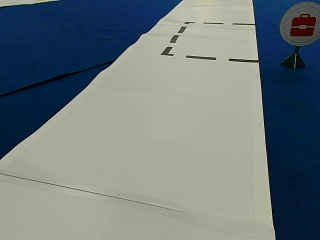company: (280, 1, 319, 45)
